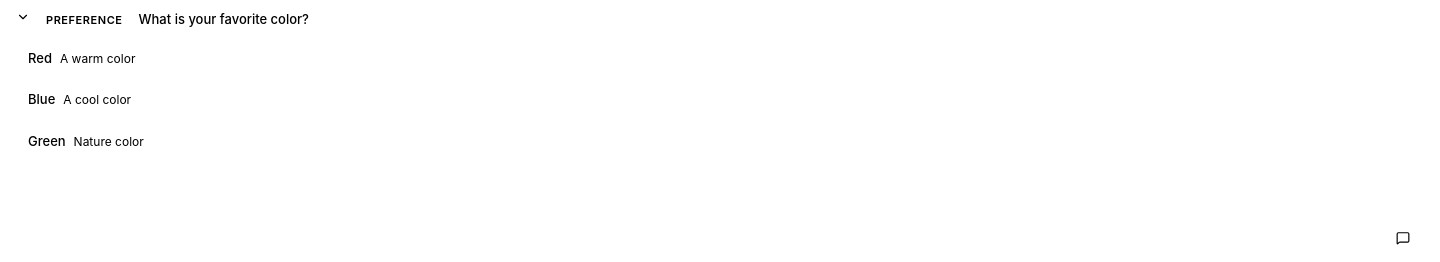
Test: QuestionCard — collapsing › reports its state to assistive tech without hiding the question
Click the button "Preference What is your favorite color?".
click(84, 20)  # box [16,10,1424,30]
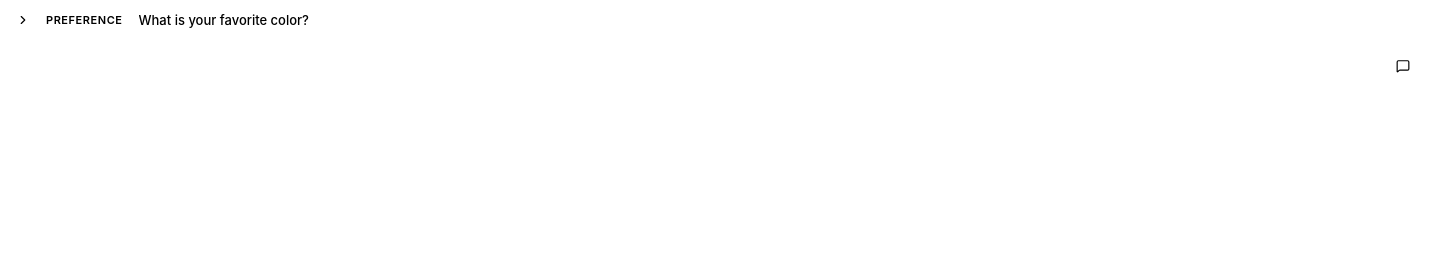
Check: the button "Preference What is your favorite color?" is collapsed, box [16,10,1424,30]
